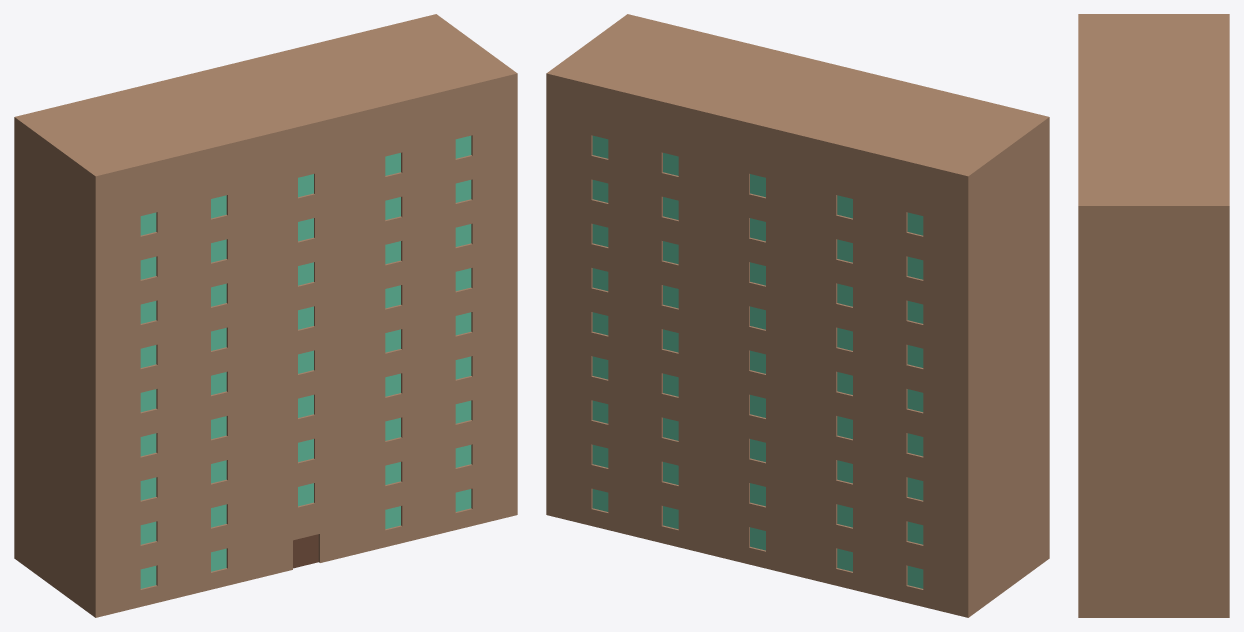
File: skyscraper9.fbx
3 views of the same model, side by side, from view 1: azimuth 30°, elevation 25°; view 2: azimuth 150°, elevation 25°; view 3: azimuth 270°, elevation 25° (orthographic). The views are drawn at different scales.
Visible parts, largest first — view 1: Cube.001; view 2: Cube.001; view 3: Cube.001.
Part boxes in pixels (x1=…): Cube.001: x1=14, y1=14, x2=517, y2=617; Cube.001: x1=546, y1=14, x2=1049, y2=617; Cube.001: x1=1078, y1=14, x2=1229, y2=617.
Bounding box in the file's own units: 3000 × 3000 × 1000.
